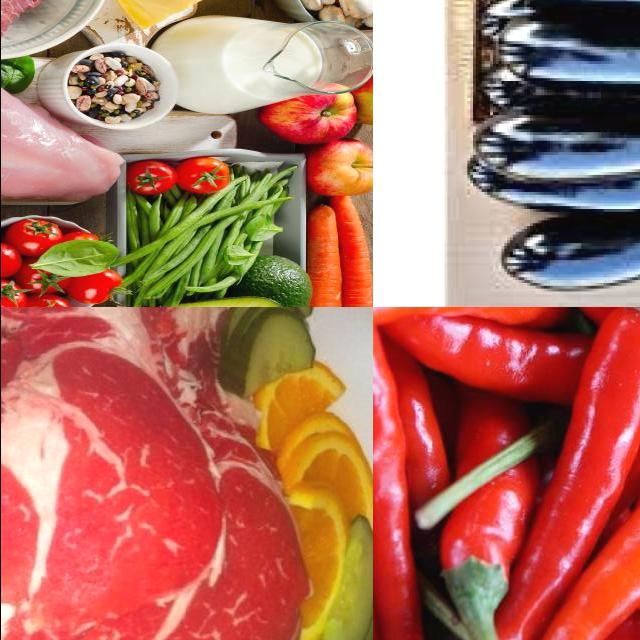carrot: (308, 208, 350, 308), (337, 195, 373, 308)
cucumber: (224, 308, 323, 389), (303, 530, 373, 640)
eggplant: (479, 102, 640, 179), (505, 198, 640, 286), (499, 13, 640, 90), (473, 153, 640, 212)
tomato: (71, 268, 131, 307), (124, 158, 176, 197), (12, 216, 60, 251), (182, 161, 230, 193), (1, 242, 29, 276), (1, 283, 26, 308), (17, 298, 74, 308)
